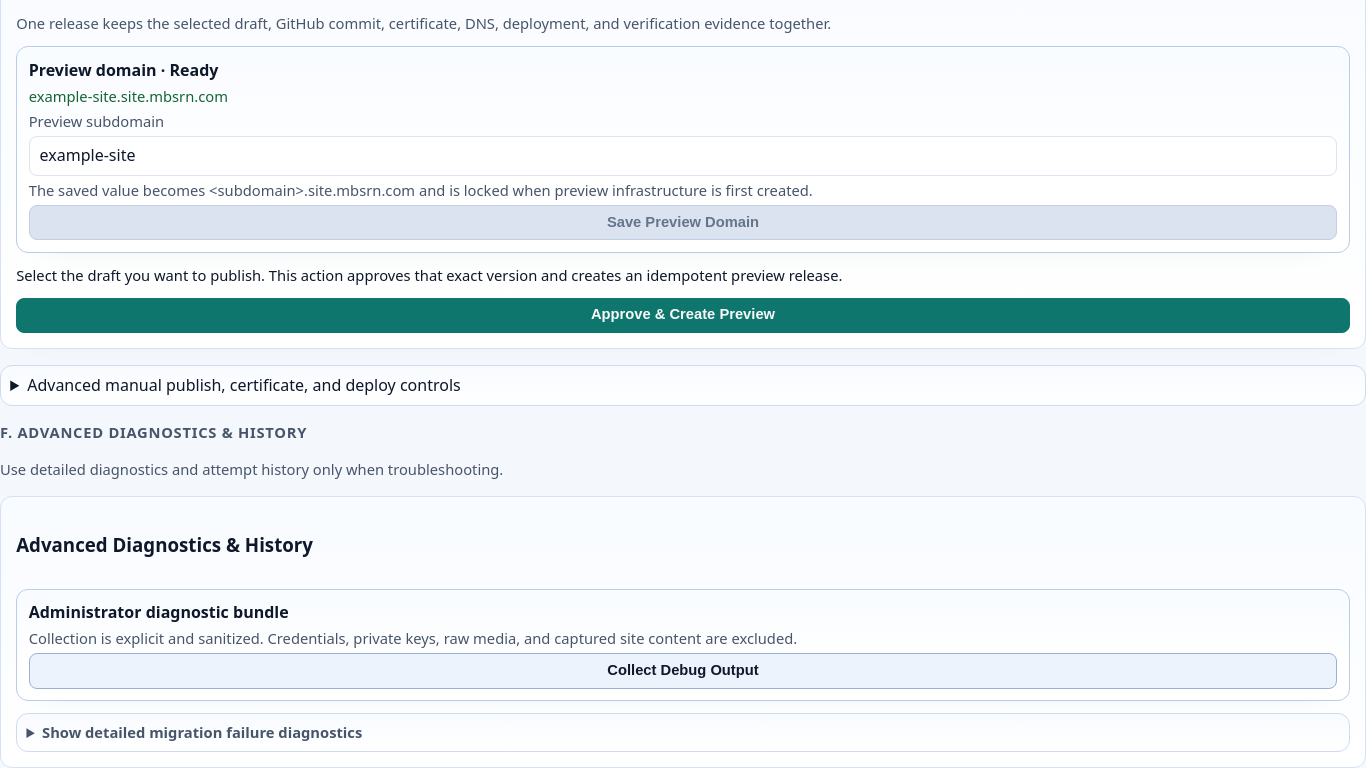
Test: site migration workflow route › shows explicit sanitized debug collection only to administrators
The image size is (1366, 768).
(page scrolled)
Click the button "Collect Debug Output" at (683, 671), box top-left (29, 653), bottom-right (1337, 688)
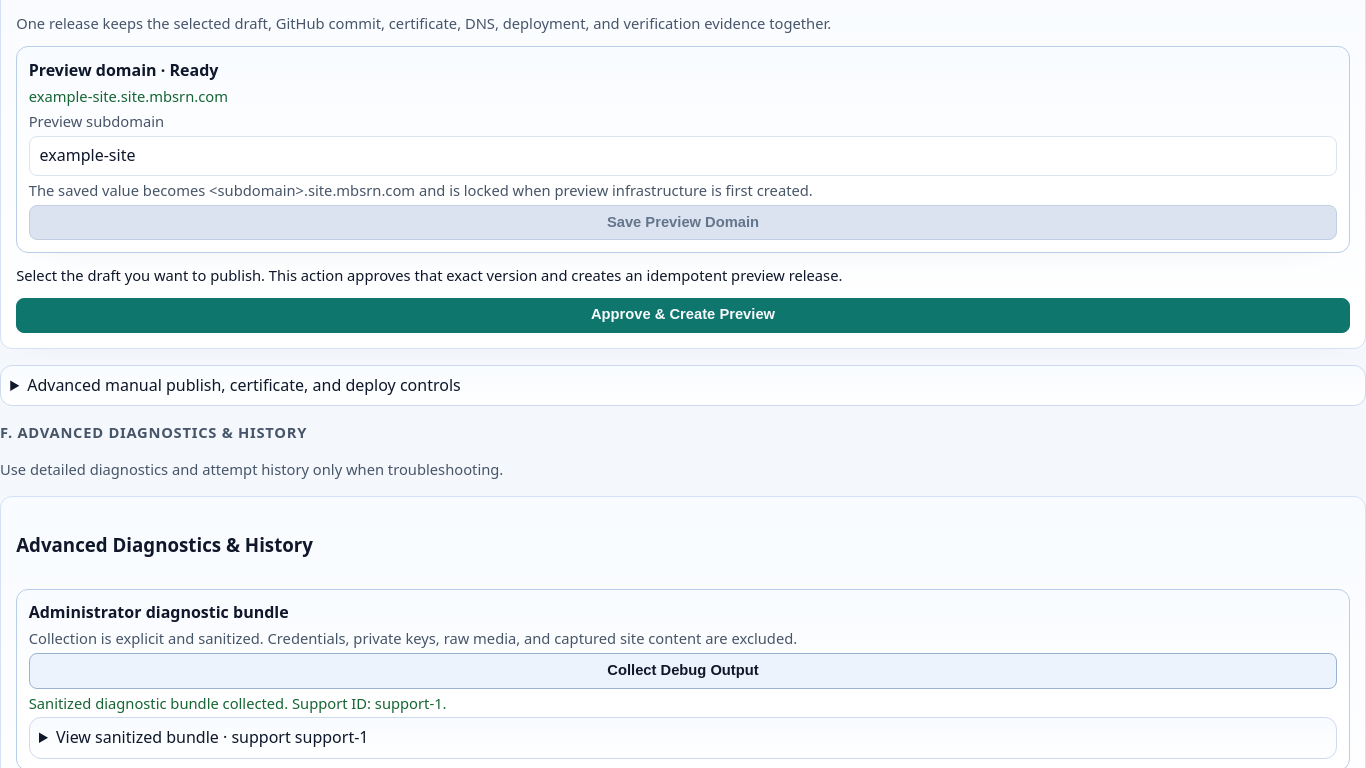
Now the text "Sanitized diagnostic bundle collected. Support ID: support-1." is shown, box top-left (29, 692), bottom-right (446, 712)
Now the heading "View sanitized bundle · support support-1" is shown, box top-left (56, 726), bottom-right (368, 748)
